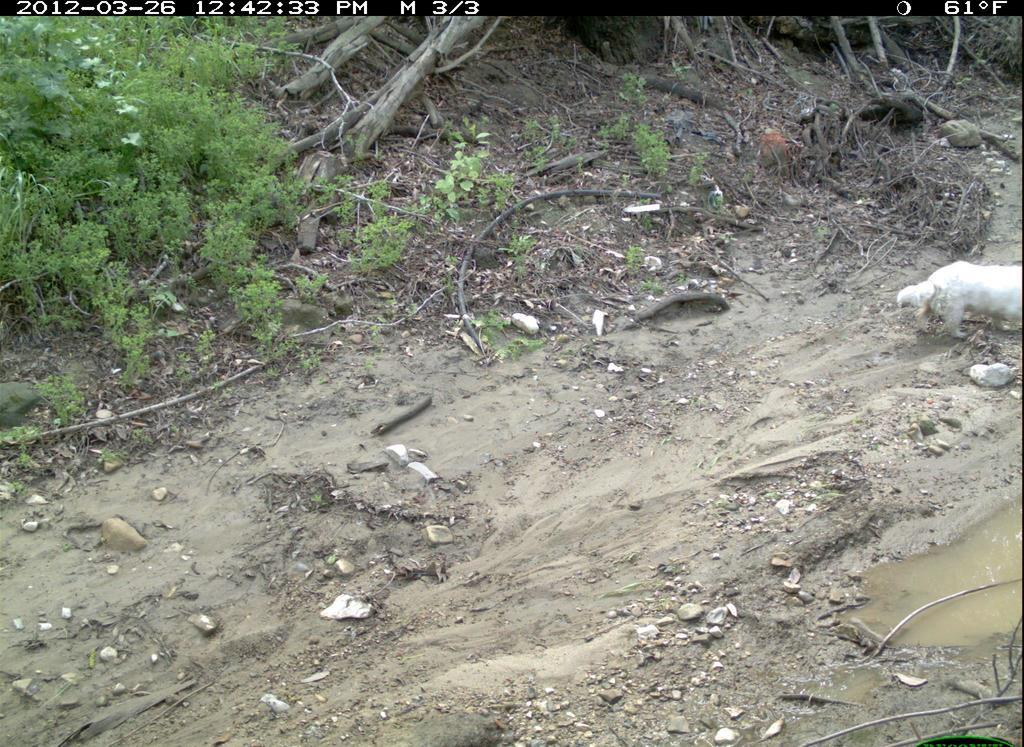dog: (899, 259, 1023, 345)
